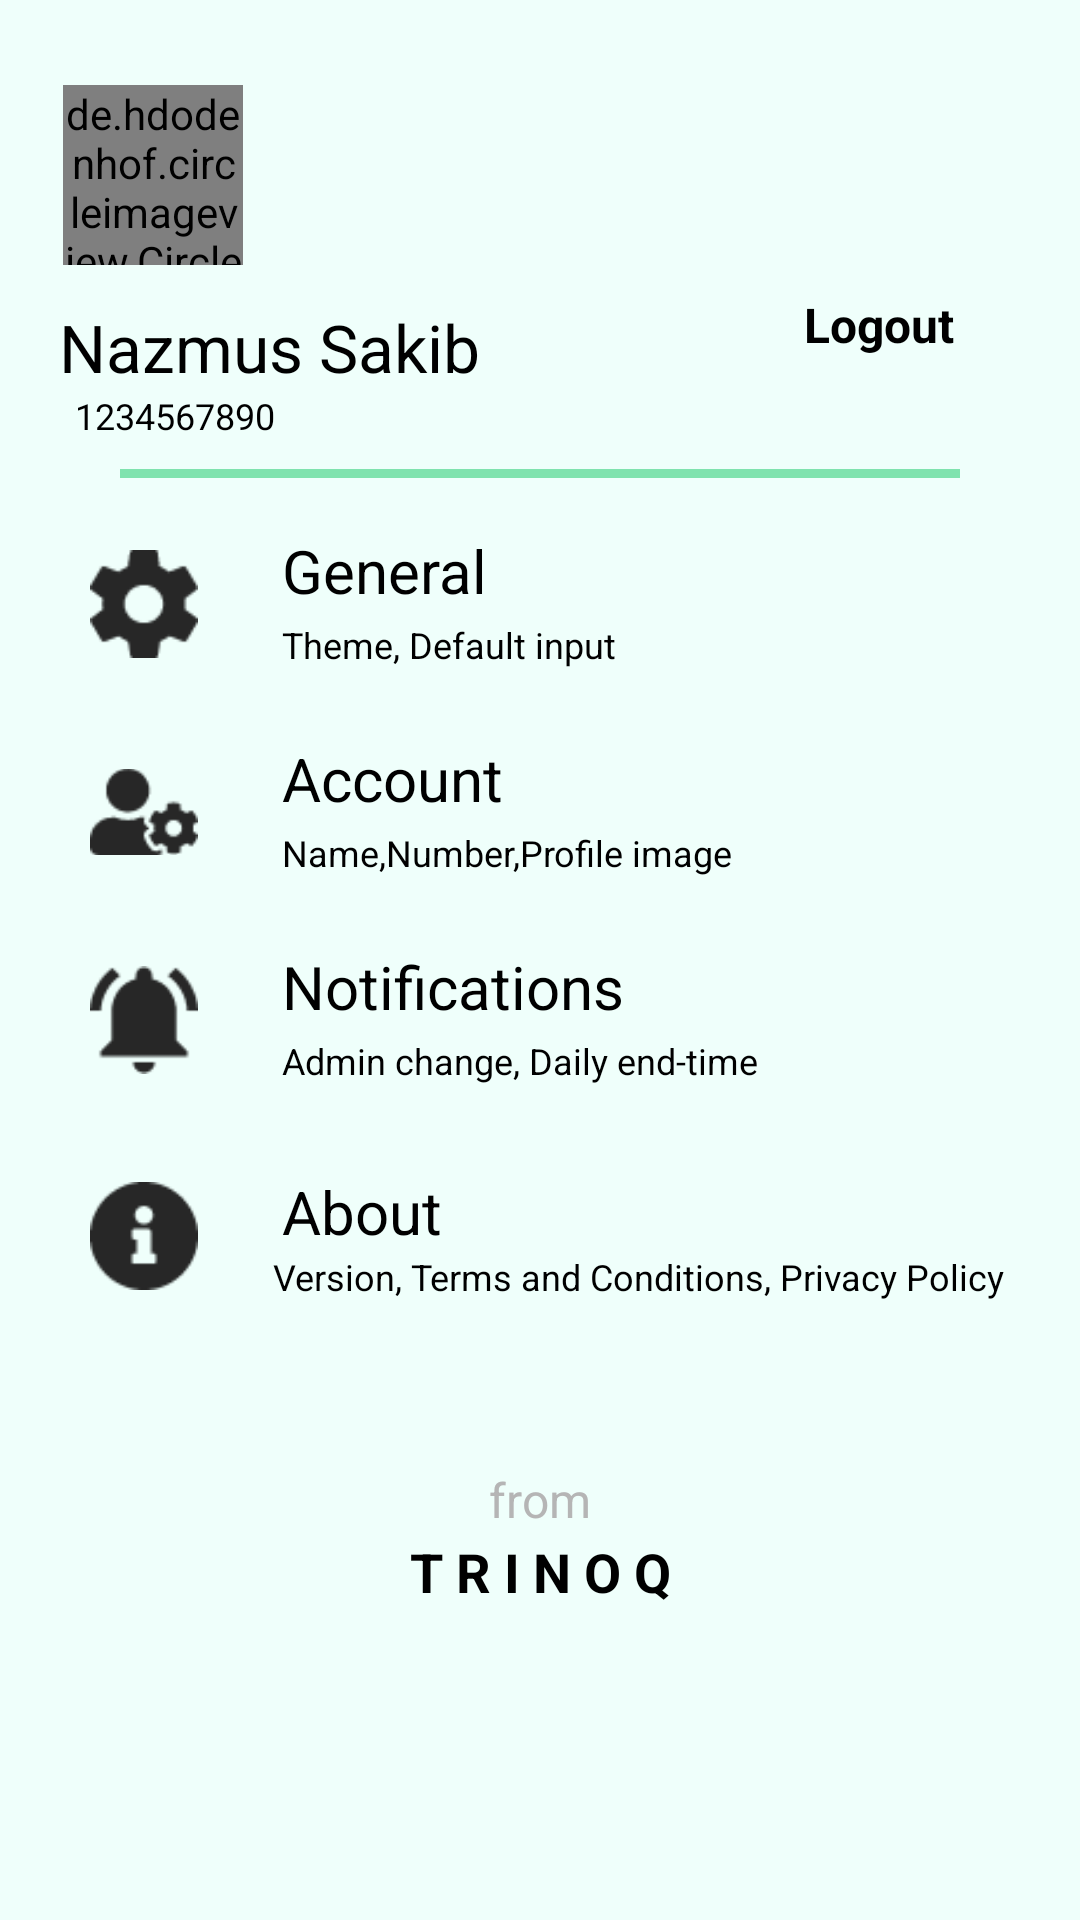

Icons on this 1080w x 1920h Android screen, each with the point to tap as (x,y):
awesome info: (144,1236)
awesome user: (144,812)
settings: (144,604)
